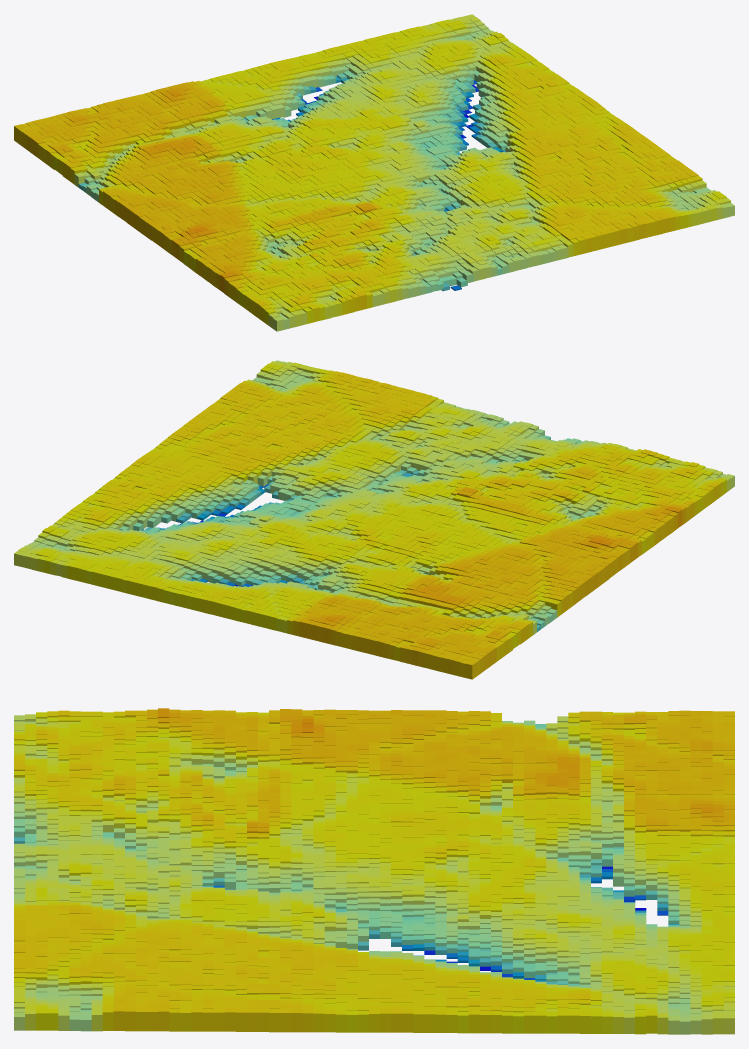
Rendered from population.glb.
3 renders of one model, top to bottom at view 1: azimuth 30°, elevation 25°; view 2: azimuth 150°, elevation 25°; view 3: azimuth 270°, elevation 25°, orthographic. The views are drawn at different scales.
Parts seen in each view (by area): view 1: population; view 2: population; view 3: population.
Part boxes in pixels (x1=…): population: x1=14, y1=14, x2=734, y2=331; population: x1=14, y1=360, x2=734, y2=679; population: x1=14, y1=708, x2=734, y2=1034.
Bounding box in the file's own units: 6479 × 285 × 6432.
